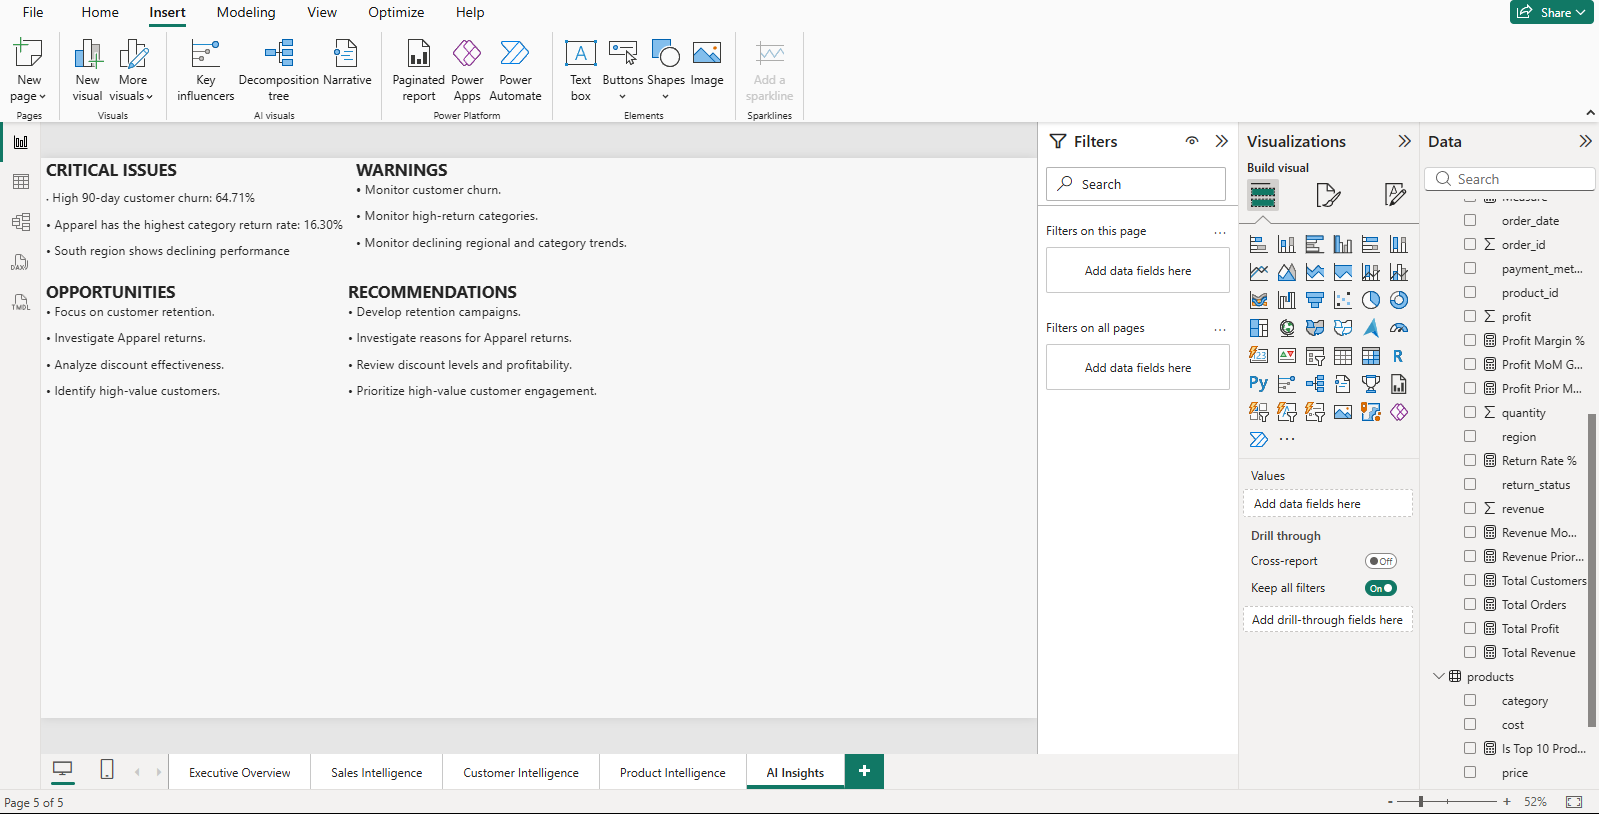

Layout of this report page (visuals, bound fields, positions):
{"tool":"powerbi","page":{"name":"AI Insights","canvas":[1920,1080],"ordinal":4},"visuals":[{"type":"textbox","box":[9.6,0,279.5,59.8],"z":0},{"type":"textbox","box":[9.6,59.8,582.2,204.3],"z":1},{"type":"textbox","box":[607.2,0,593.7,235.2],"z":2},{"type":"textbox","box":[9.6,235.2,543.6,277.6],"z":3},{"type":"textbox","box":[591.8,235.2,609.2,254.5],"z":4}]}

Visuals, with their boxes on the page's 1920x1080 design canvas (x1, y1, x2, y2). These are canvas units, not pixel positions in the 1599x814 screenshot, which may show the page scaled, cropped or inside an application window:
textbox: (10, 0, 289, 60)
textbox: (10, 60, 592, 264)
textbox: (607, 0, 1201, 235)
textbox: (10, 235, 553, 513)
textbox: (592, 235, 1201, 490)
